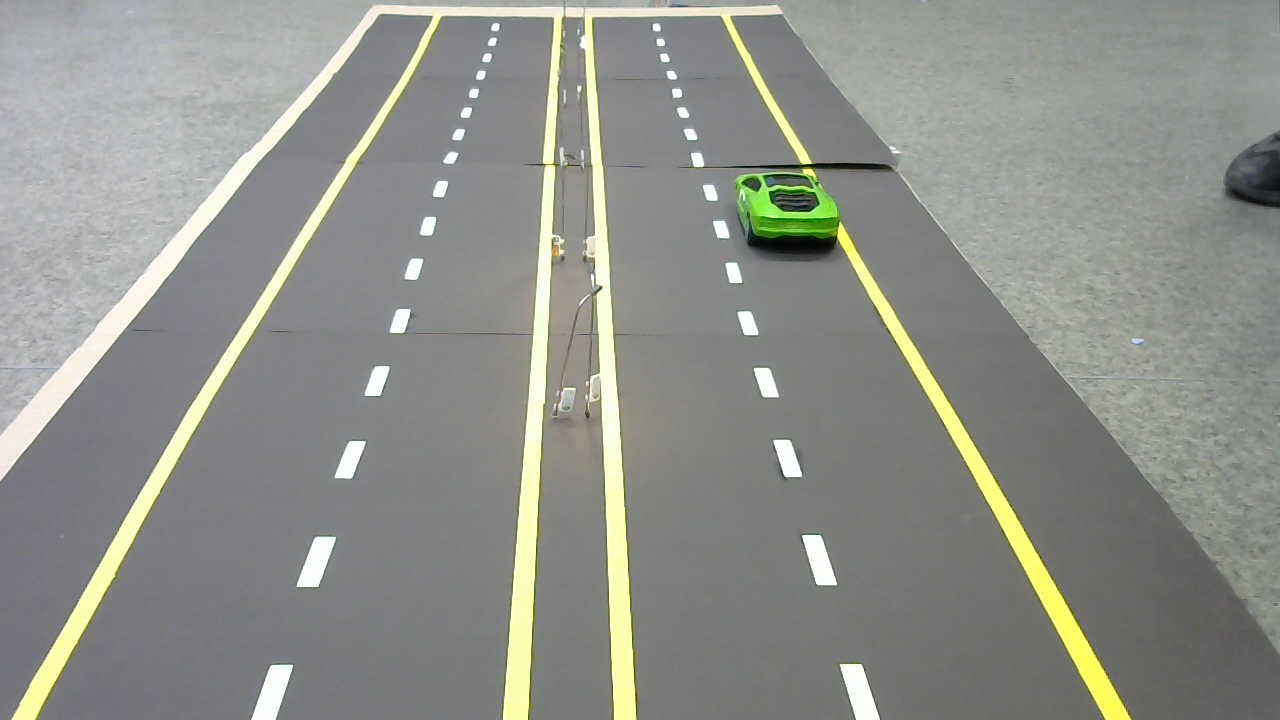back_car: (730, 169, 847, 248)
